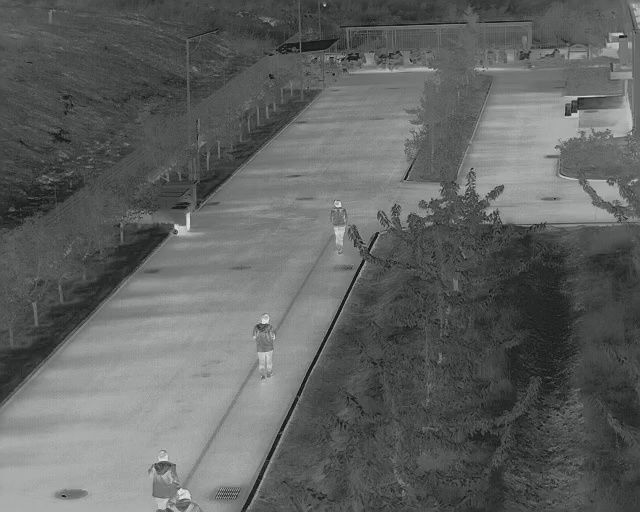person: (146, 448, 178, 506), (252, 312, 275, 380), (328, 196, 348, 256)
